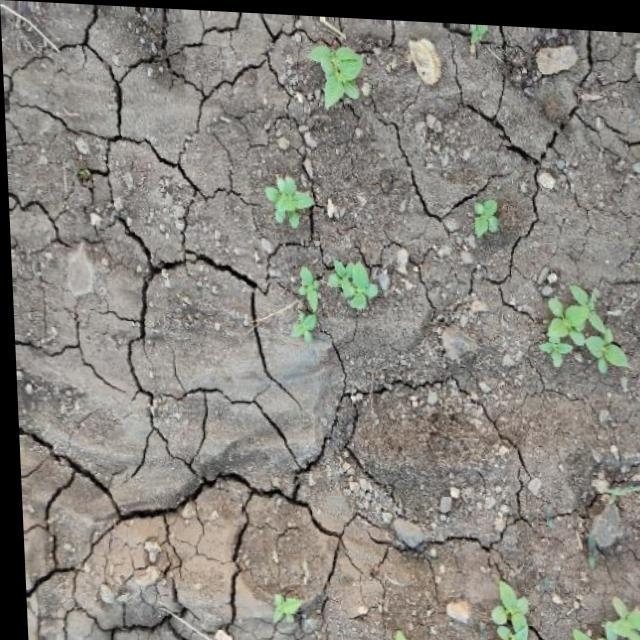crop: (537, 278, 625, 370), (297, 36, 368, 105), (469, 575, 542, 640), (566, 586, 640, 640), (255, 169, 313, 227), (324, 249, 380, 307), (282, 257, 322, 308), (466, 195, 503, 235), (265, 590, 301, 621), (284, 307, 318, 338)
